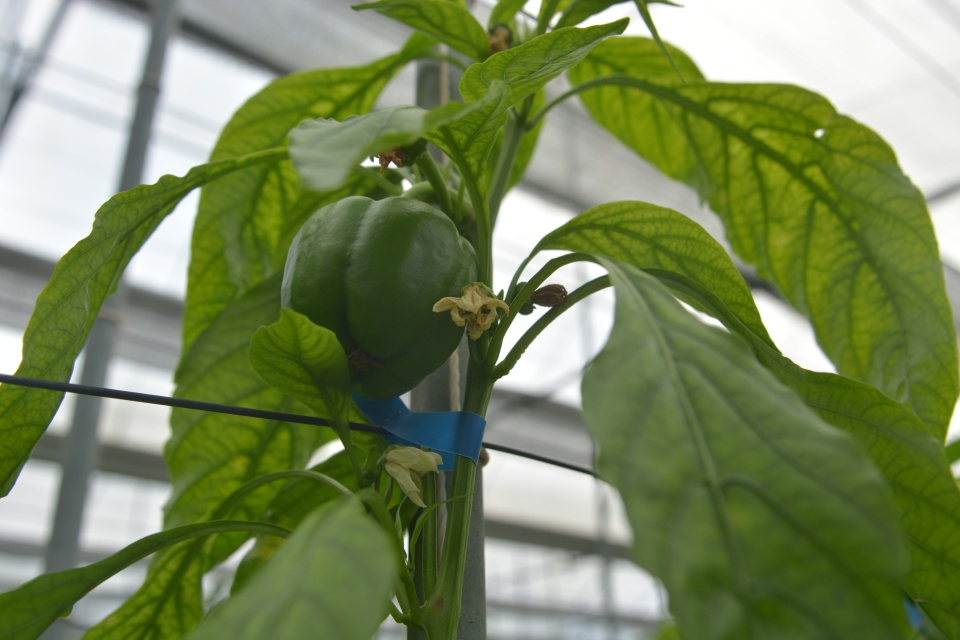flower: (431, 282, 511, 342), (381, 442, 445, 512)
fruit: (278, 194, 480, 402)
